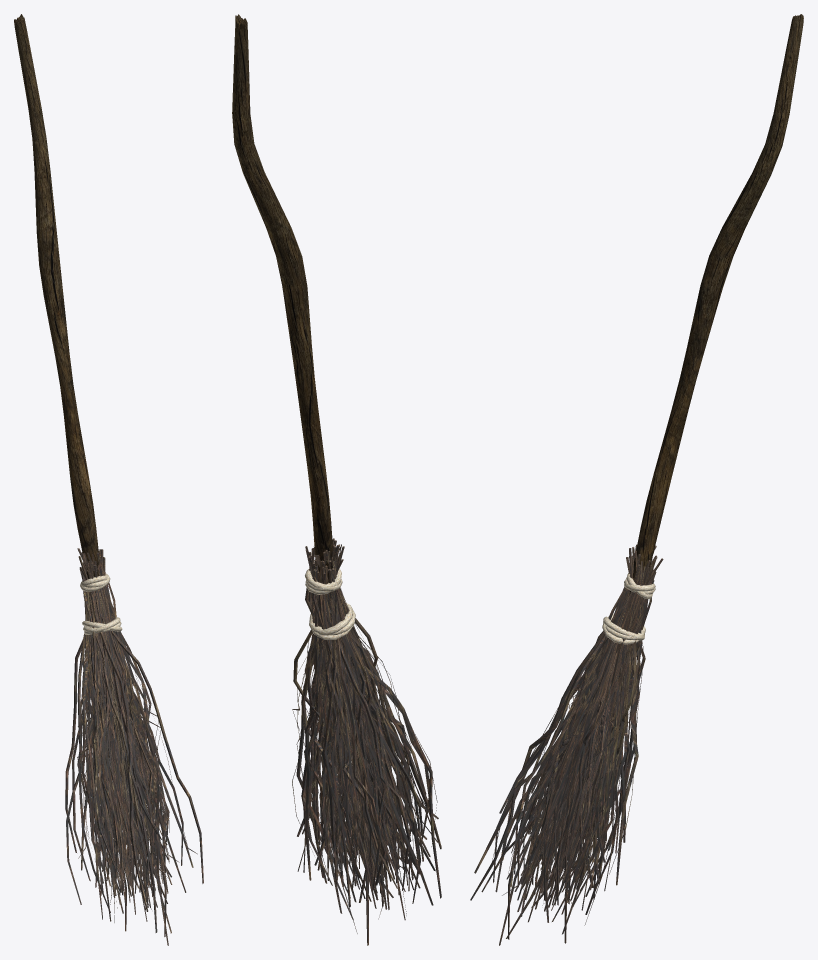
The model's file is Escoba.glb.
The picture shows the model from 3 angles, left to right: view 1: azimuth 30°, elevation 25°; view 2: azimuth 150°, elevation 25°; view 3: azimuth 270°, elevation 25°; orthographic projection. The views are drawn at different scales.
Visible parts, largest first — view 1: Broomstick_001; view 2: Broomstick_001; view 3: Broomstick_001.
Part boxes in pixels (<box>): Broomstick_001: <box>14,14,203,945</box>; Broomstick_001: <box>232,14,441,945</box>; Broomstick_001: <box>470,14,803,945</box>.
Size of the model in its own units: 0.4056 by 2.96 by 0.9612.
3 materials, 3 textured.
